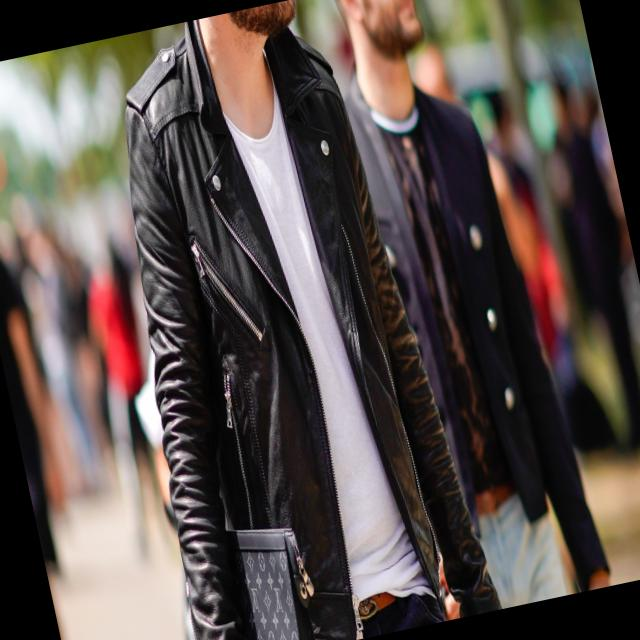Jacket: (64, 10, 503, 640), (330, 62, 606, 610)
